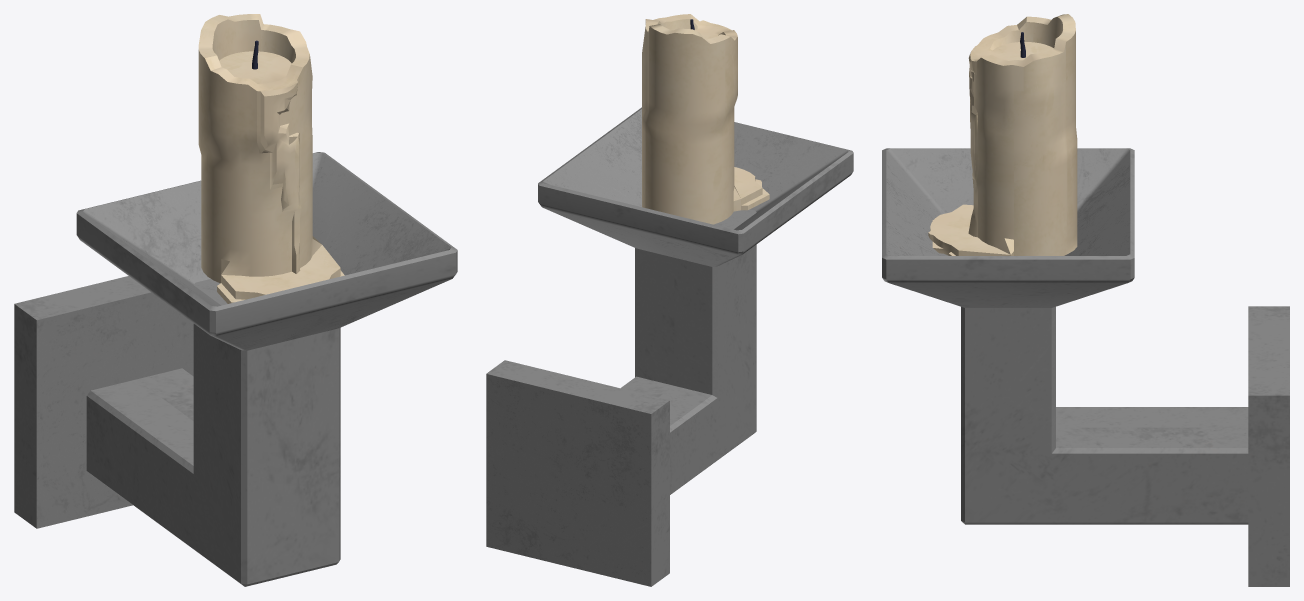
The model's file is SV_candleLamp.fbx.
The picture shows the model from 3 angles, left to right: view 1: azimuth 30°, elevation 25°; view 2: azimuth 150°, elevation 25°; view 3: azimuth 270°, elevation 25°; orthographic projection. The views are drawn at different scales.
Visible parts, largest first — view 1: WallLampHolder, CandleModAsset_high; view 2: WallLampHolder, CandleModAsset_high; view 3: WallLampHolder, CandleModAsset_high.
Boxes of the visible parts, x1,y1,x2,y2 form: WallLampHolder: (14, 152, 457, 586); CandleModAsset_high: (198, 14, 344, 303); WallLampHolder: (486, 107, 853, 586); CandleModAsset_high: (642, 14, 769, 224); WallLampHolder: (882, 148, 1289, 586); CandleModAsset_high: (928, 14, 1077, 255).
Bounding box in the file's own units: 37.76 × 81.62 × 58.52.
Materials: 1 (1 with a texture image).
